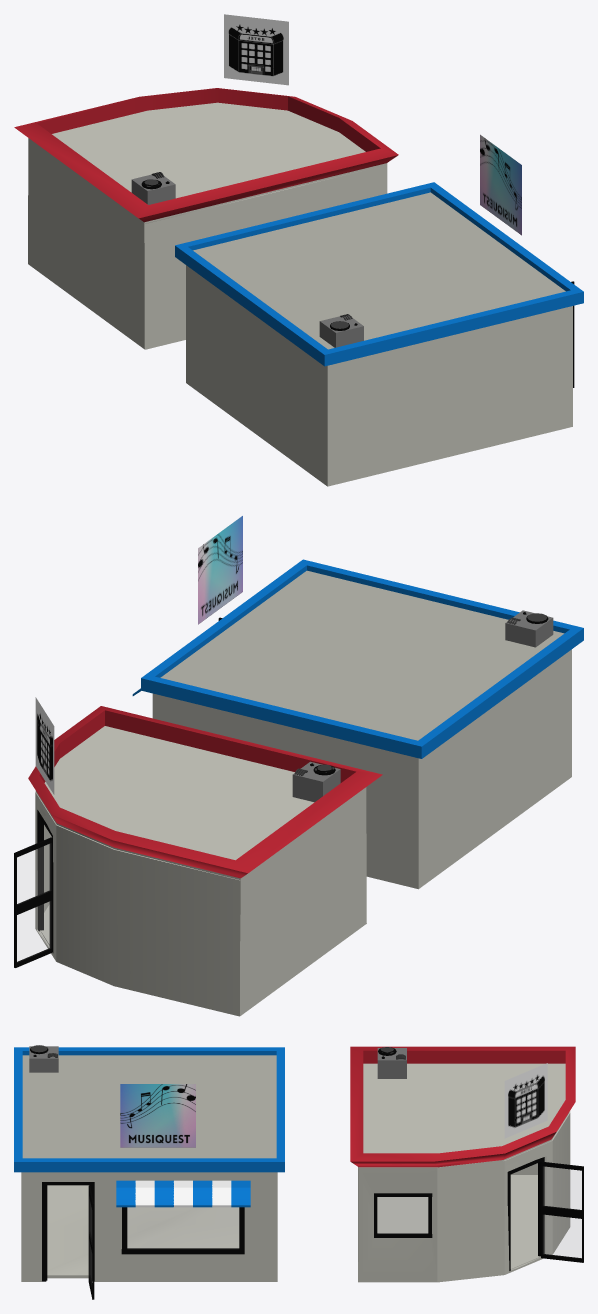
3 renders of one model, top to bottom at view 1: azimuth 30°, elevation 25°; view 2: azimuth 150°, elevation 25°; view 3: azimuth 270°, elevation 25°, orthographic. The views are drawn at different scales.
Parts seen in each view (by area): view 1: Object_3, Hotel, Musiquest; view 2: Object_3, Musiquest, Object_2, Hotel; view 3: Object_3, Object_2, Musiquest, Hotel.
Boxes of the visible parts, x1,y1,x2,y2 form: Object_3: [14, 88, 583, 486]; Hotel: [224, 14, 288, 85]; Musiquest: [480, 134, 521, 235]; Object_3: [14, 559, 583, 1016]; Musiquest: [198, 516, 242, 624]; Object_2: [17, 844, 49, 961]; Hotel: [35, 697, 54, 794]; Object_3: [14, 1045, 583, 1299]; Object_2: [90, 1167, 581, 1279]; Musiquest: [120, 1084, 195, 1147]; Hotel: [504, 1063, 547, 1138].
Size of the model in its own units: 5.83 by 4.2 by 10.84.
4 materials, 3 textured.
